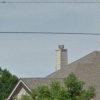Chimney: (53, 32, 69, 73)
